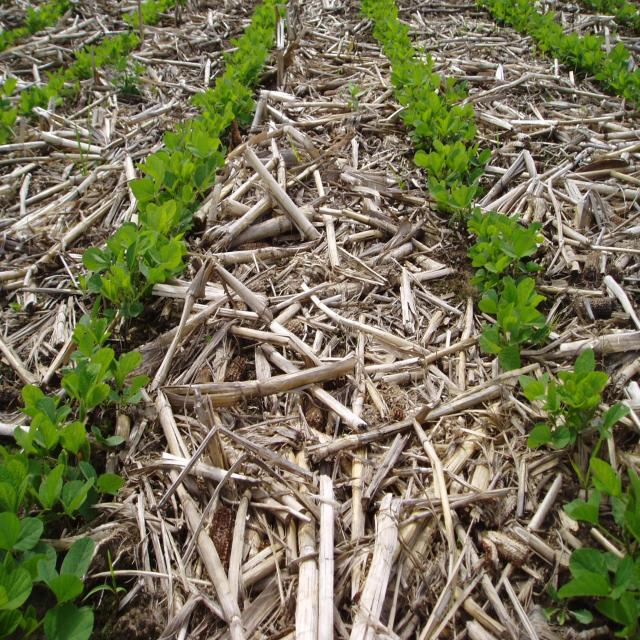row: (92, 0, 591, 640), (0, 0, 260, 449), (401, 0, 640, 474), (536, 0, 640, 72)
